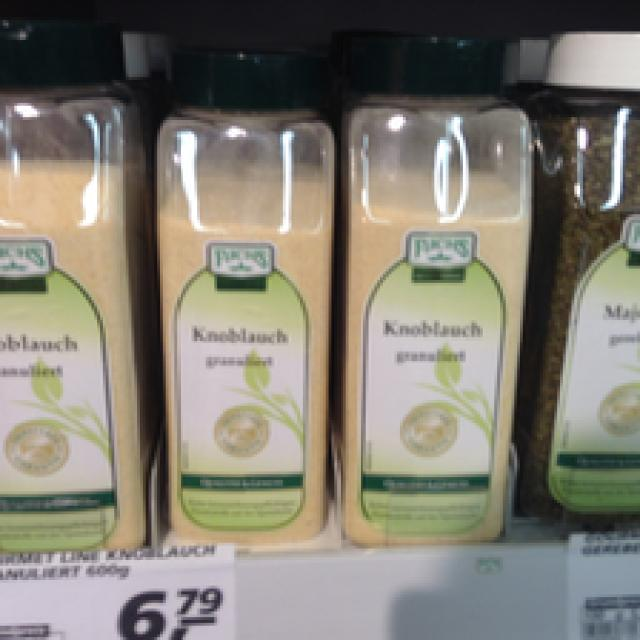groceries: (334, 31, 529, 543), (148, 26, 332, 543), (0, 11, 146, 552), (517, 29, 637, 514)
